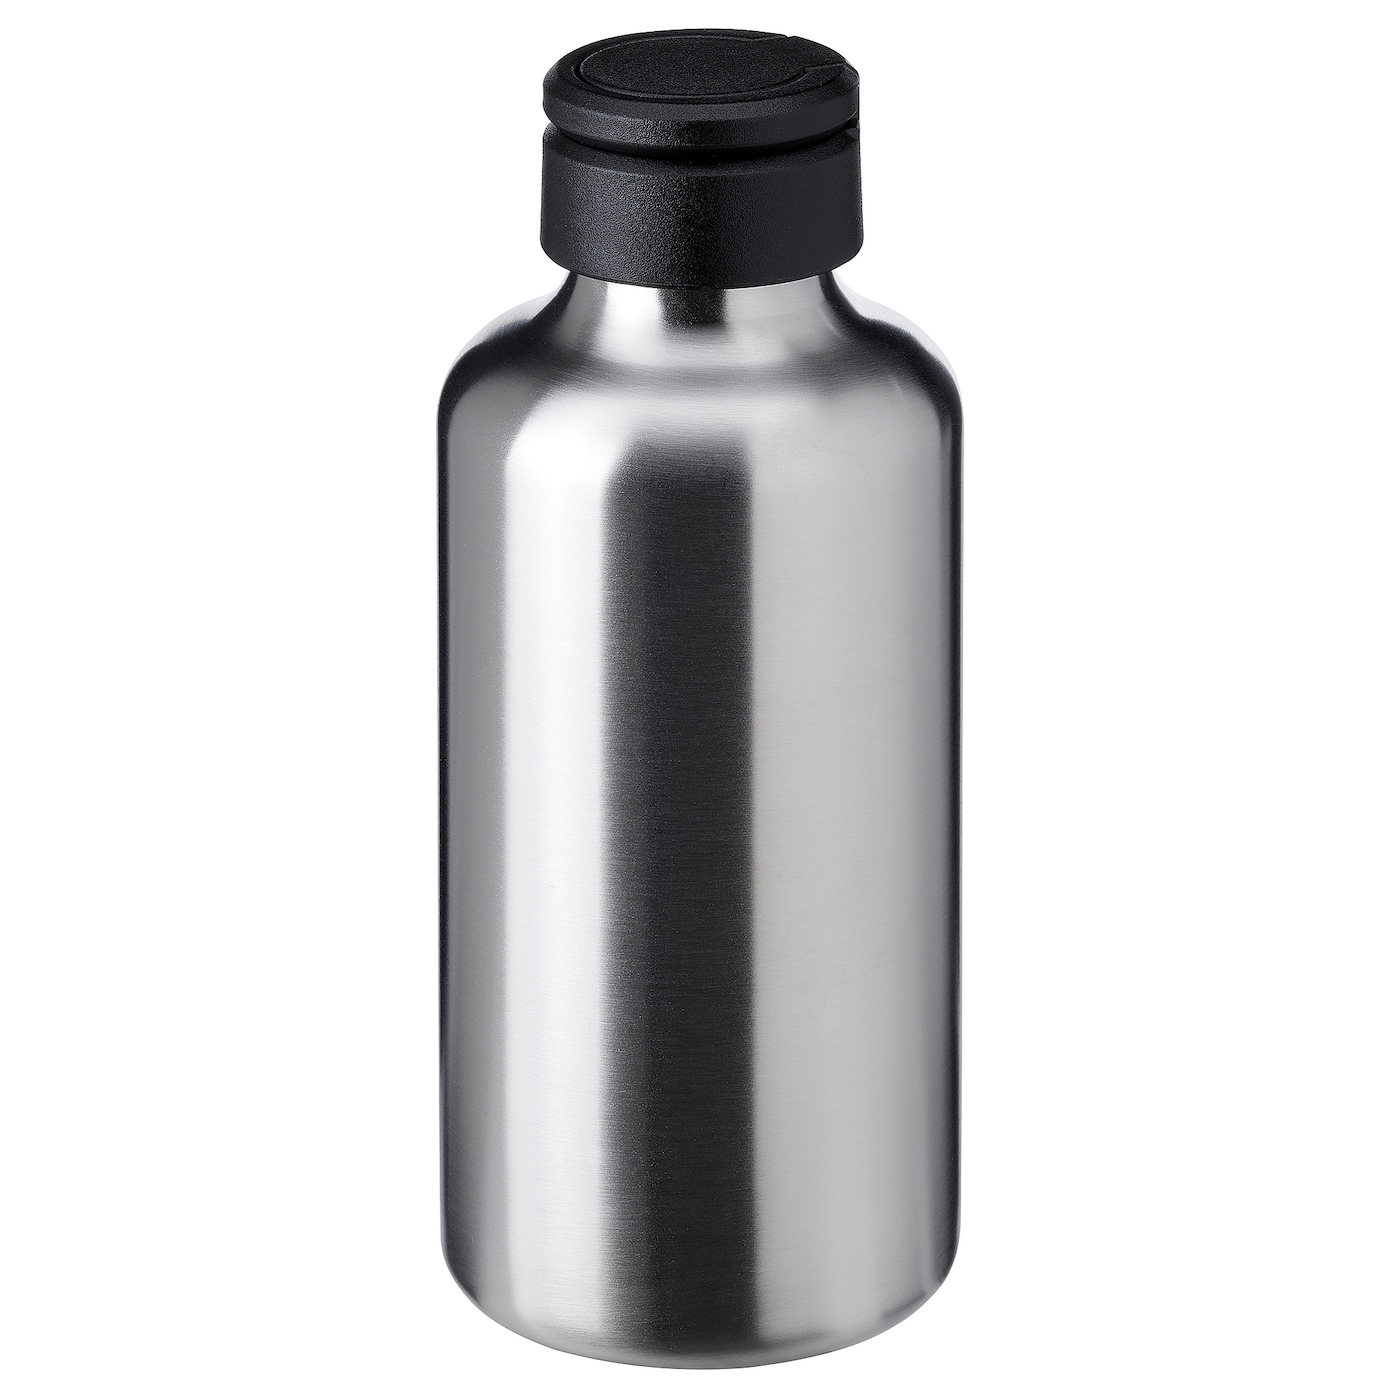bottle_cap: (501, 35, 922, 301)
water_bottle: (403, 32, 1044, 1376)
